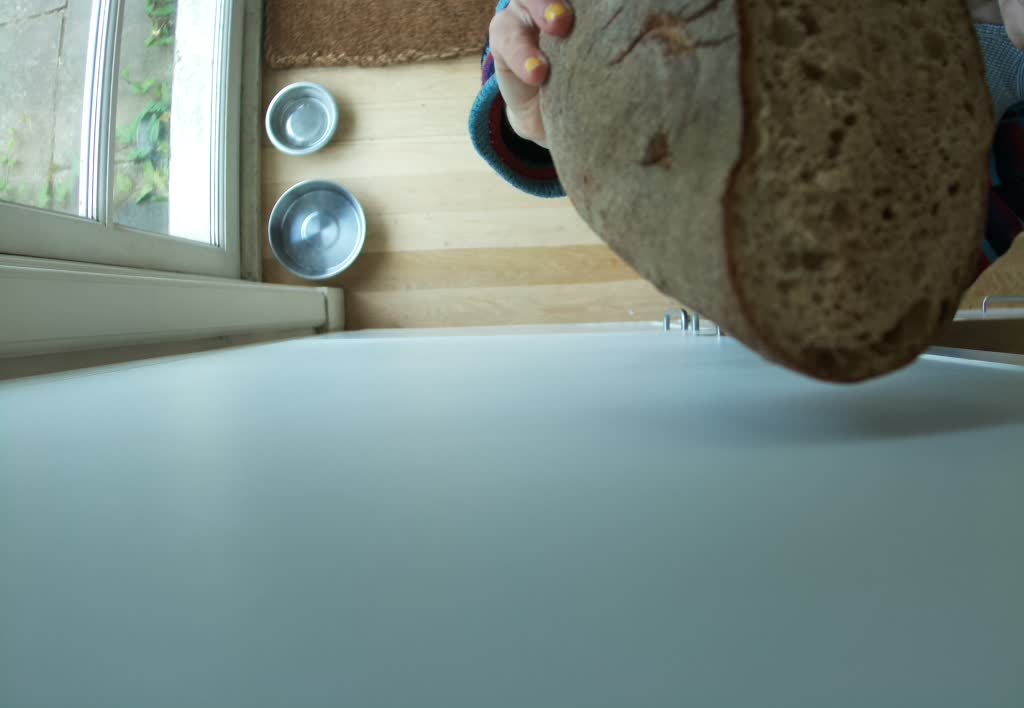bread: (536, 1, 1024, 382)
